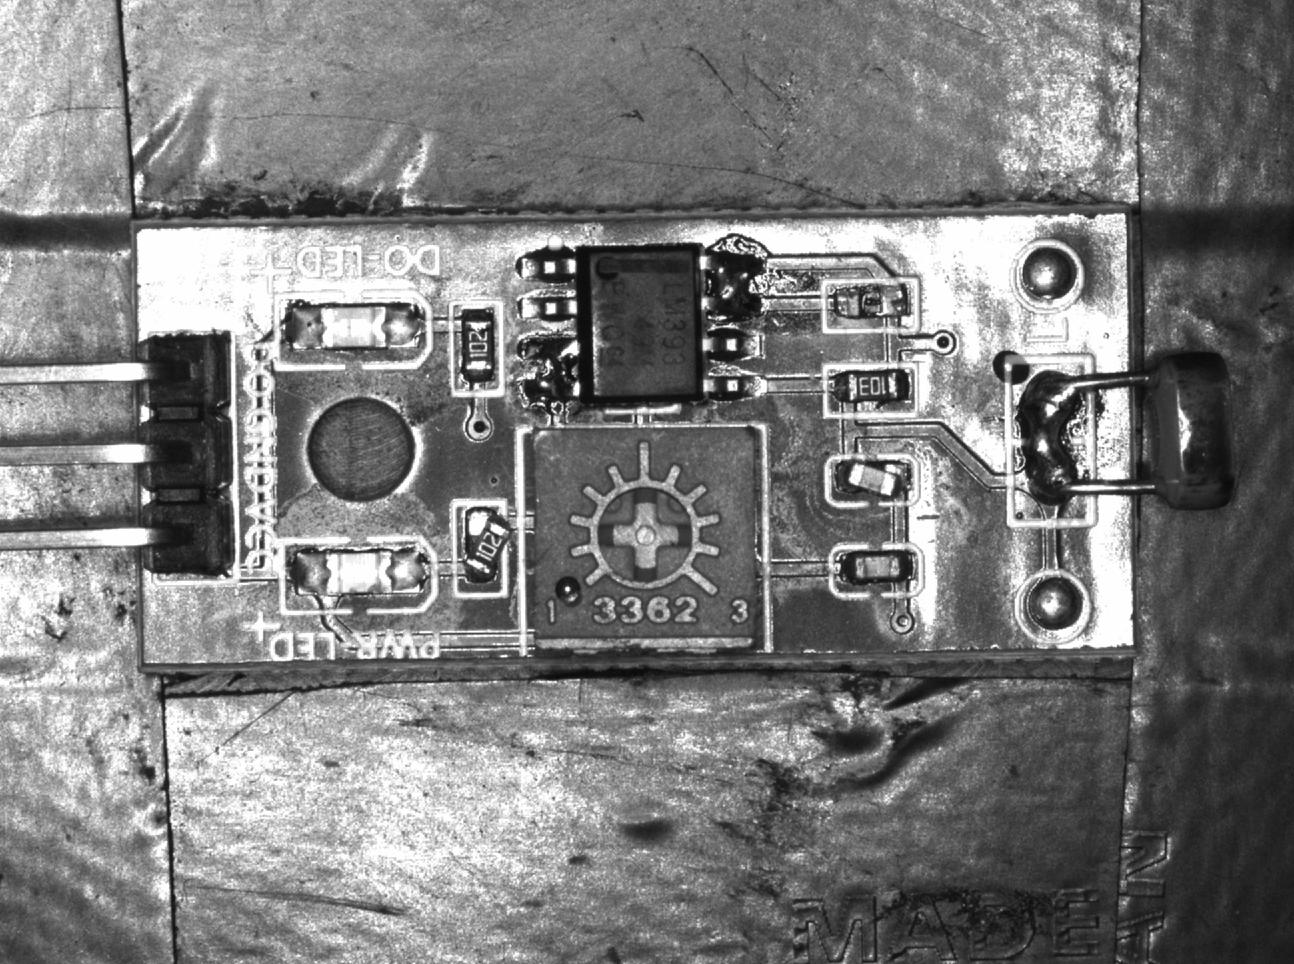bridge: (1004, 356, 1096, 521), (509, 335, 586, 405), (704, 245, 761, 321)
lifted: (453, 498, 509, 598), (824, 455, 920, 504)
miss: (821, 279, 919, 333)
ok: (824, 364, 918, 416), (830, 546, 922, 595), (453, 302, 500, 395)
